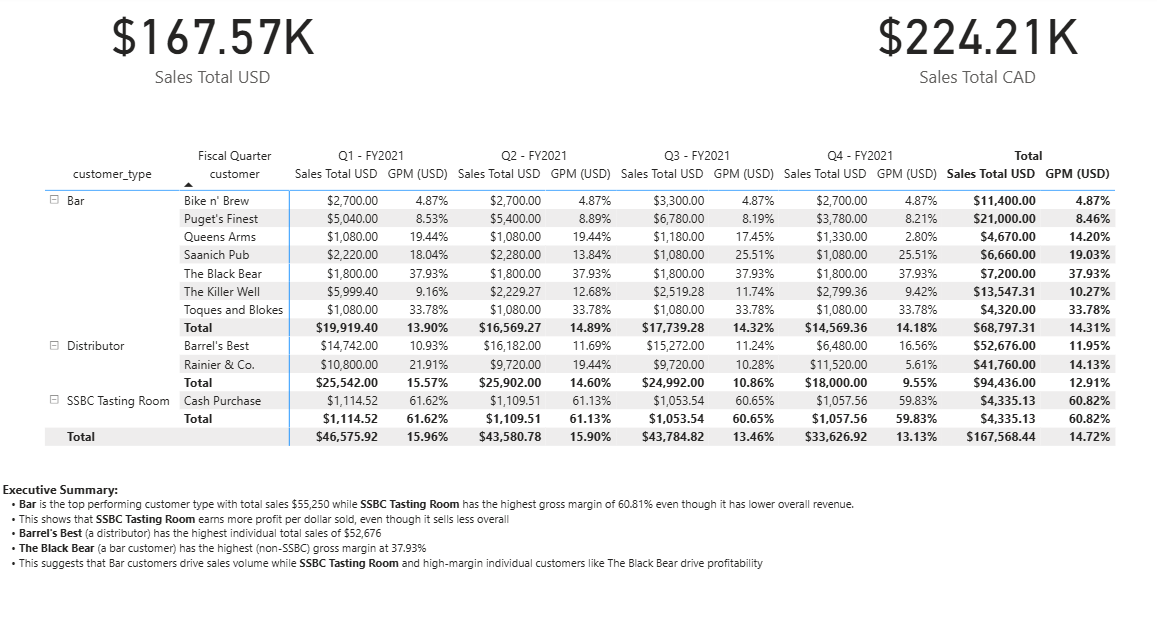

The page's visual inventory and layout, read from the dashboard file:
{"tool":"powerbi","page":{"name":"Sales and GPM","canvas":[1280,720],"ordinal":0},"visuals":[{"type":"card","fields":{"Values":["measure.total_sales_cad"]},"box":[871.7,0,408.6,101.8],"z":0},{"type":"card","title":"Sales Total, USD","fields":{"Values":["measure.total_sales_usd"]},"box":[0,0,471.7,101.8],"z":1000},{"type":"pivotTable","fields":{"Rows":["dim_customer.customer_type","dim_customer.customer"],"Columns":["dim_date.Fiscal Quarter"],"Values":["measure.total_sales_usd","measure.gross_profit_margin"]},"box":[46.5,160.1,1189.4,359.4],"z":2000},{"type":"textbox","box":[0,528,1280,192],"z":3000}]}

Visuals, with their boxes in screenshot pixels (x1, y1, x2, y2), scaled from the page's 1280x720 canvas onto the 1157x642 screenshot:
card - measure.total_sales_cad: [left=788, top=0, right=1156, bottom=91]
"Sales Total, USD" card: [left=0, top=0, right=426, bottom=91]
pivotTable - dim_customer.customer_type x dim_customer.customer: [left=42, top=143, right=1117, bottom=463]
textbox: [left=0, top=471, right=1156, bottom=641]
